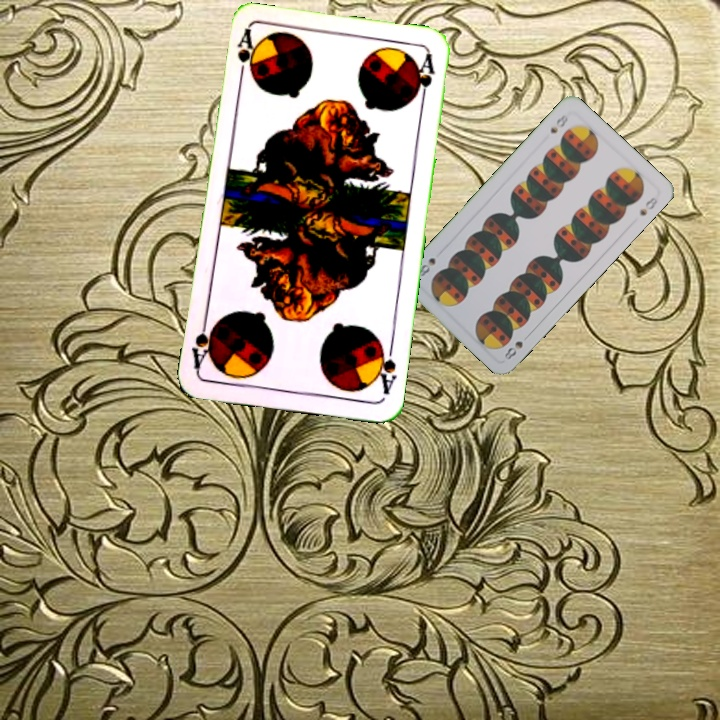S8: (500, 329, 533, 362), (546, 110, 570, 136)
SA: (371, 337, 399, 397), (233, 27, 255, 86)
